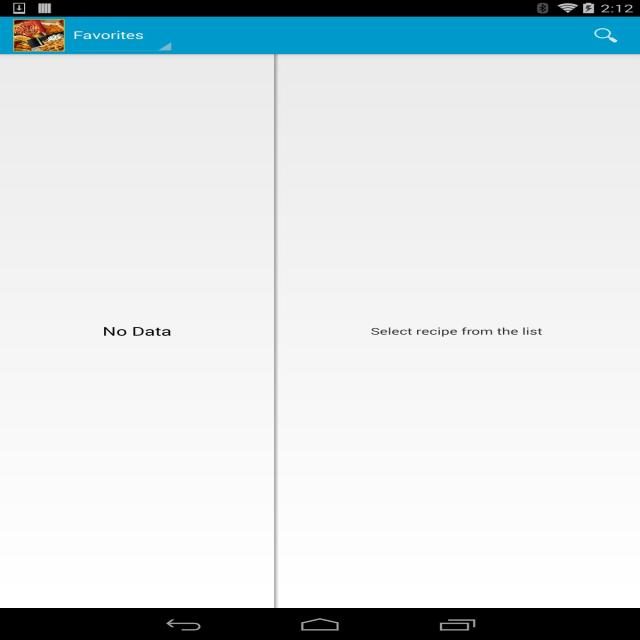button: (68, 26, 172, 52), (595, 27, 621, 44)
image: (14, 19, 64, 52)
text: (368, 325, 547, 338), (99, 325, 171, 340)
